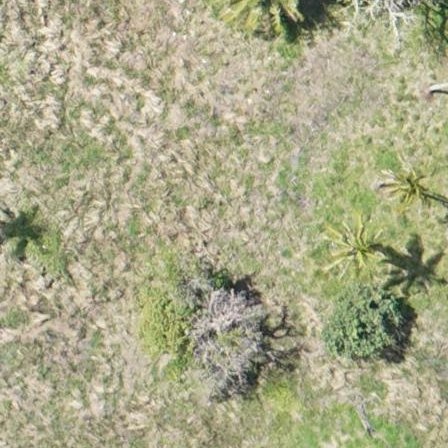palm_tree: (318, 210, 386, 282), (379, 156, 435, 208)
